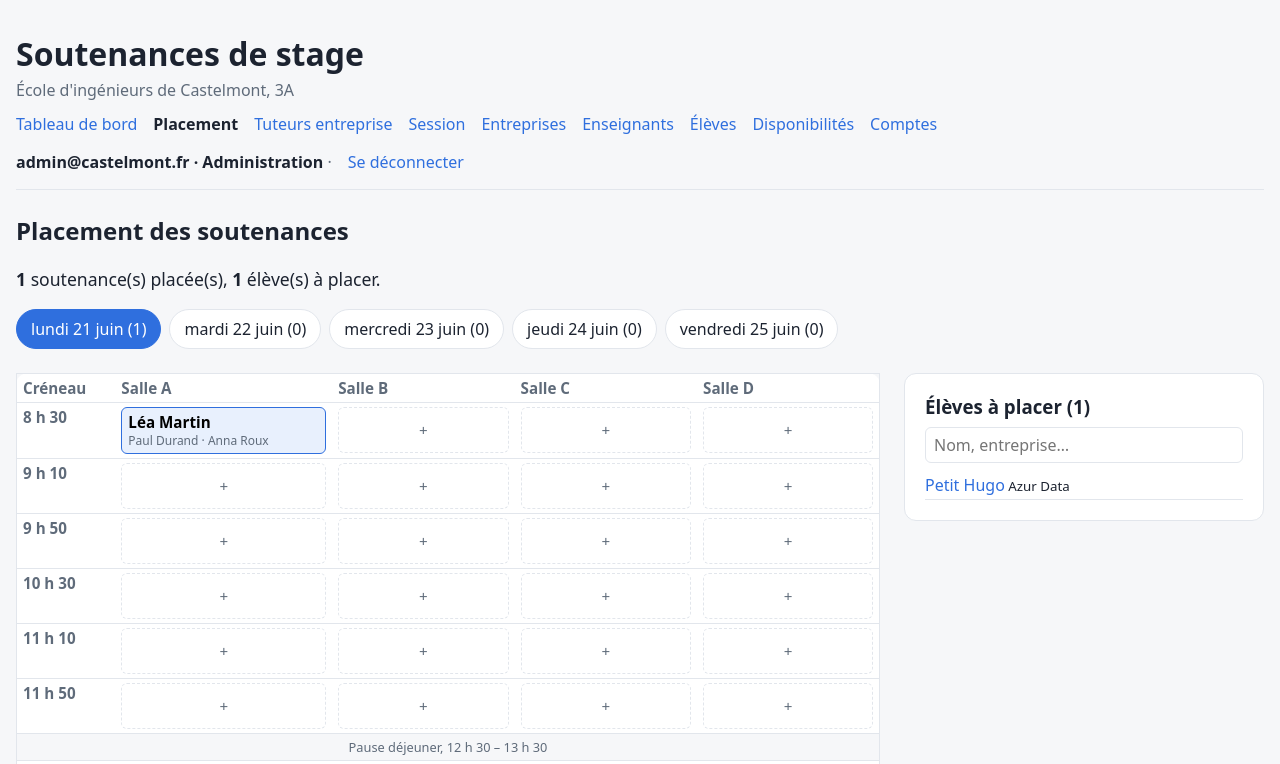
PlacementPage, the grid › shows rooms C and D closed on Thursday afternoon only
Step 1. Click the button "jeudi 24 juin (0)" → click(584, 328), box [512,308,657,348]
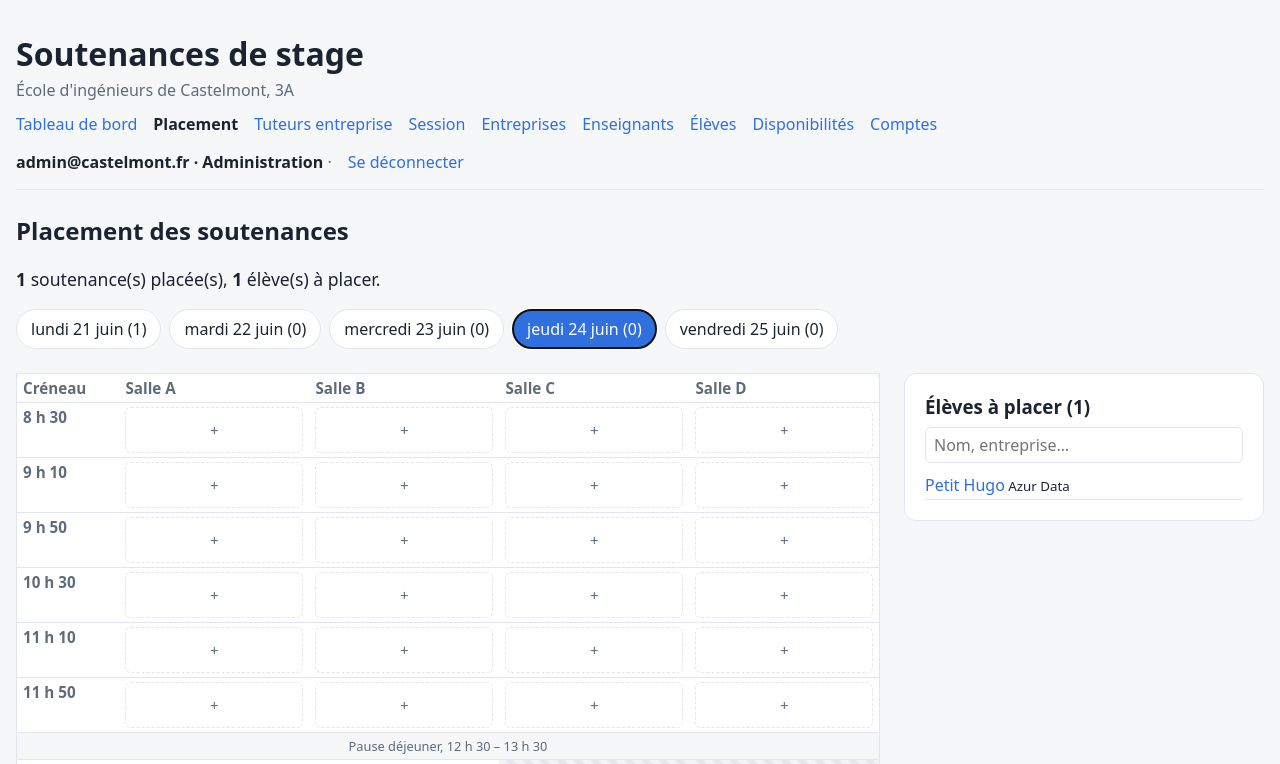
Expected: the text "Fermée" is shown 12 times
Expected: the button named "Placer jeu. 24 11 h 50, Salle C" is shown, [506,682,684,728]
